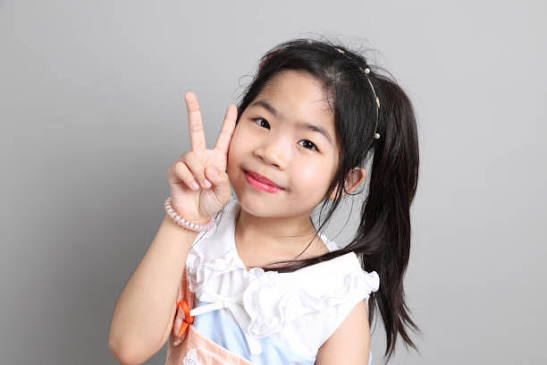peace_sign: (166, 91, 240, 219)
